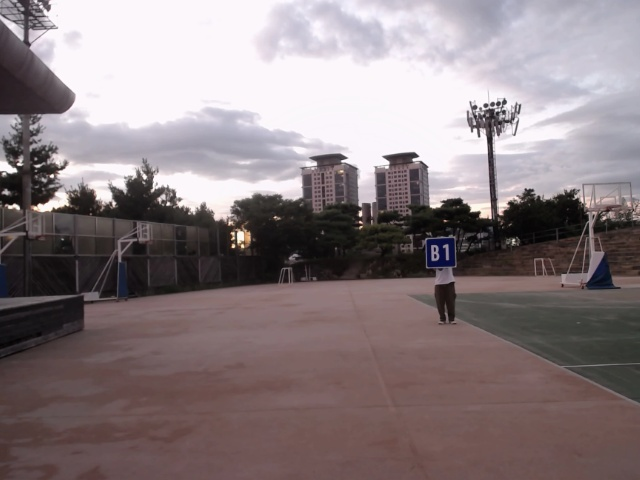delivery_b1: (425, 238, 456, 268)
